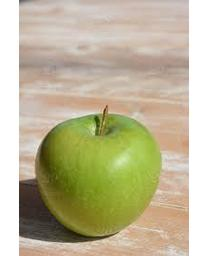apple: (34, 106, 161, 238)
